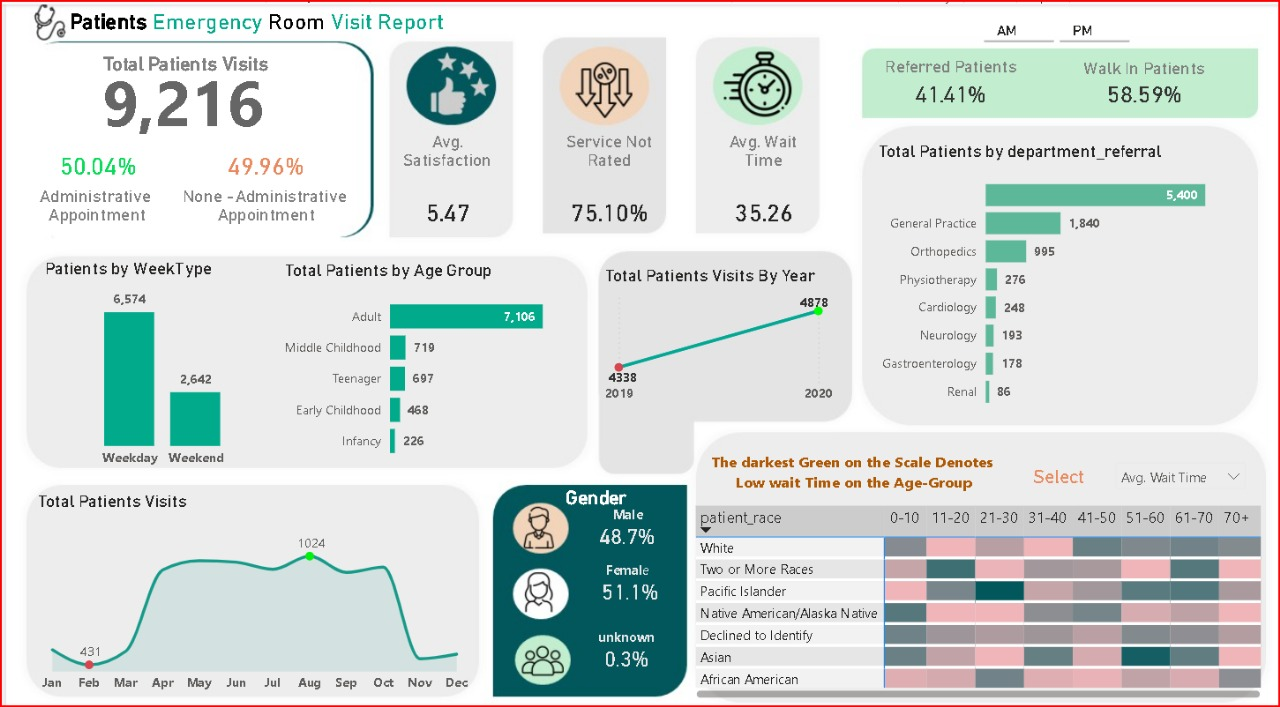

The dashboard page shown, as its layout file describes it:
{"tool":"powerbi","page":{"name":"Page 1","canvas":[1280,720],"ordinal":0},"visuals":[{"type":"card","fields":{"Values":["Calculations.Total Patients"]},"box":[63.5,47.4,227.8,95.7],"z":0},{"type":"card","fields":{"Values":["Calculations.% Administrative Schedule"]},"box":[41.3,143.1,100.8,39.3],"z":1000},{"type":"card","fields":{"Values":["Calculations.% None - Administrative Schedule"]},"box":[215.7,143.1,91.7,39.3],"z":2000},{"type":"pivotTable","fields":{"Values":["Calculations.Average Wait Time"],"Rows":["Patients Dataset.patient_race"],"Columns":["Patients Dataset.Age Buckets"]},"box":[688.4,498.9,577.5,203.6],"z":3000},{"type":"slicer","fields":{"Values":["Parameter.Parameter"]},"box":[1104.6,450.5,151.2,42.3],"z":4000},{"type":"clusteredBarChart","fields":{"Category":["Patients Dataset.Age Group"],"Y":["Calculations.Total Patients"]},"box":[275.1,257,305.4,212.7],"z":5000},{"type":"areaChart","title":"Total Patients Visits","fields":{"Category":["Date.Month"],"Y":["Calculations.Total Patients","Calculations.Values Max Point (Month)"]},"box":[26.2,489.8,446.5,209.6],"z":6000},{"type":"advancedSlicerVisual","fields":{"Values":["Patients Dataset.Moment"]},"box":[977.6,0,156.2,43.3],"z":7000},{"type":"lineChart","title":"Total Patients Visits By Year","fields":{"Category":["Date.Year"],"Y":["Calculations.Total Patients","Calculations.Values Max Point (Year)"]},"box":[596.7,262,238.9,146.1],"z":8000},{"type":"clusteredBarChart","fields":{"Y":["Calculations.Total Patients"],"Category":["Patients Dataset.department_referral"]},"box":[871.8,137.1,375.9,280.2],"z":9000},{"type":"card","fields":{"Values":["Calculations.% Referred Patients"]},"box":[866.8,69.5,164.3,41.3],"z":10000},{"type":"card","fields":{"Values":["Calculations.% Un Referred Patients"]},"box":[1061.3,69.5,165.3,41.3],"z":11000},{"type":"card","fields":{"Values":["Calculations.HitMap Caption"]},"box":[688.4,439.4,327.6,60.5],"z":12000},{"type":"textbox","box":[15.1,177.4,153.2,59.5],"z":13000},{"type":"textbox","box":[168.3,177.4,186.5,54.4],"z":14000},{"type":"card","title":"Avg. Satisfaction","fields":{"Values":["Calculations.Average Satisfaction Score"]},"box":[379,128,130,125],"z":15000},{"type":"card","title":"Service Not Rated","fields":{"Values":["Calculations.% No Rating"]},"box":[546.3,128,119.9,125],"z":16000},{"type":"card","title":"Avg. Wait Time","fields":{"Values":["Calculations.Average Wait Time"]},"box":[701.5,128,119.9,125],"z":17000},{"type":"textbox","box":[852.7,47.4,193.5,33.3],"z":18000},{"type":"textbox","box":[1046.2,48.4,195.5,31.2],"z":19000},{"type":"clusteredColumnChart","title":"Patients by WeekType","fields":{"Y":["Calculations.Total Patients"],"Category":["Date.WeekType"]},"box":[33.3,255,248.9,217.7],"z":20000},{"type":"card","fields":{"Values":["Calculations.% FeMale Visit"]},"box":[576.5,513,94.7,42.3],"z":21000},{"type":"card","fields":{"Values":["Calculations.% Male Visit"]},"box":[580.5,571.5,90.7,39.3],"z":22000},{"type":"card","fields":{"Values":["Calculations.% Unknown"]},"box":[577.5,639,92.7,37.3],"z":23000},{"type":"textbox","box":[26.2,43.3,308.4,36.3],"z":24000},{"type":"textbox","box":[454.6,479.7,281.2,37.3],"z":25000},{"type":"textbox","box":[591.6,498.9,66.5,32.3],"z":26000},{"type":"textbox","box":[591.6,555.3,66.5,32.3],"z":27000},{"type":"textbox","box":[584.6,622.9,78.6,32.3],"z":28000},{"type":"textbox","box":[998.8,458.6,118.9,34.3],"z":29000},{"type":"textbox","box":[58.5,0,396.1,36.3],"z":29001}]}

Visuals, with their boxes in screenshot pixels (x1, y1, x2, y2), scaled from the page's 1280x720 canvas onto the 1280x707 screenshot:
card - Calculations.Total Patients: locate(64, 47, 291, 141)
card - Calculations.% Administrative Schedule: locate(41, 141, 142, 179)
card - Calculations.% None - Administrative Schedule: locate(216, 141, 307, 179)
pivotTable - Calculations.Average Wait Time x Patients Dataset.patient_race: locate(688, 490, 1266, 690)
slicer - Parameter.Parameter: locate(1105, 442, 1256, 484)
clusteredBarChart - Patients Dataset.Age Group x Calculations.Total Patients: locate(275, 252, 580, 461)
"Total Patients Visits" areaChart: locate(26, 481, 473, 687)
advancedSlicerVisual - Patients Dataset.Moment: locate(978, 0, 1134, 43)
"Total Patients Visits By Year" lineChart: locate(597, 257, 836, 401)
clusteredBarChart - Calculations.Total Patients x Patients Dataset.department_referral: locate(872, 135, 1248, 410)
card - Calculations.% Referred Patients: locate(867, 68, 1031, 109)
card - Calculations.% Un Referred Patients: locate(1061, 68, 1227, 109)
card - Calculations.HitMap Caption: locate(688, 431, 1016, 491)
textbox: locate(15, 174, 168, 233)
textbox: locate(168, 174, 355, 228)
"Avg. Satisfaction" card: locate(379, 126, 509, 248)
"Service Not Rated" card: locate(546, 126, 666, 248)
"Avg. Wait Time" card: locate(702, 126, 821, 248)
textbox: locate(853, 47, 1046, 79)
textbox: locate(1046, 48, 1242, 78)
"Patients by WeekType" clusteredColumnChart: locate(33, 250, 282, 464)
card - Calculations.% FeMale Visit: locate(576, 504, 671, 545)
card - Calculations.% Male Visit: locate(580, 561, 671, 600)
card - Calculations.% Unknown: locate(578, 627, 670, 664)
textbox: locate(26, 43, 335, 78)
textbox: locate(455, 471, 736, 508)
textbox: locate(592, 490, 658, 522)
textbox: locate(592, 545, 658, 577)
textbox: locate(585, 612, 663, 643)
textbox: locate(999, 450, 1118, 484)
textbox: locate(58, 0, 455, 36)
